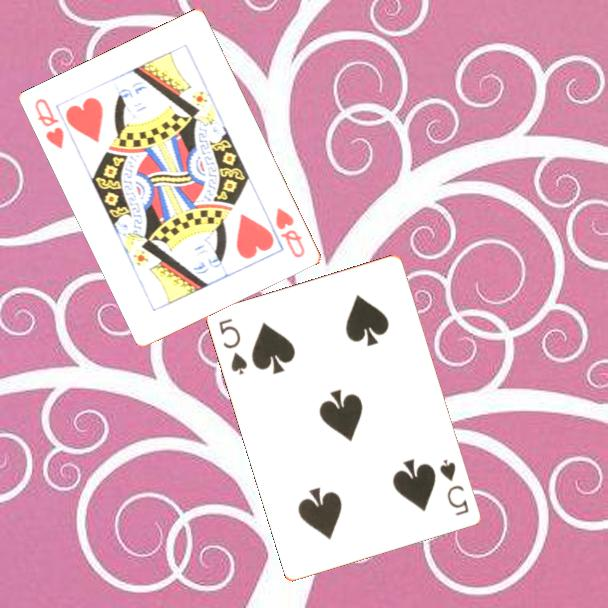h12: (272, 204, 308, 261), (31, 95, 67, 152)
s05: (437, 456, 472, 519), (216, 315, 251, 378)
